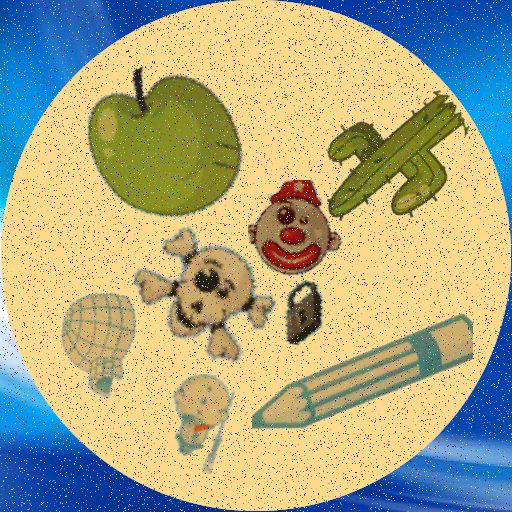apple_icon: (75, 67, 244, 236)
cactus_icon: (310, 72, 487, 249)
clown_icon: (248, 180, 346, 278)
igloo_icon: (48, 291, 157, 400)
lock_icon: (269, 280, 335, 346)
pen_icon: (252, 267, 473, 488)
skull_icon: (131, 216, 289, 374)
snowman_icon: (156, 374, 256, 474)
